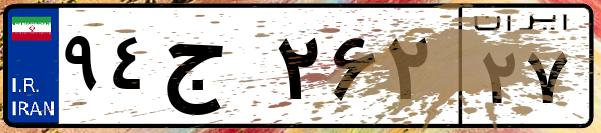2: (270, 28, 330, 110), (385, 28, 445, 110), (475, 38, 525, 113)
4: (110, 28, 158, 98)
6: (330, 28, 385, 110)
7: (525, 38, 570, 115)
9: (57, 26, 110, 100)
ج: (158, 20, 270, 120)
